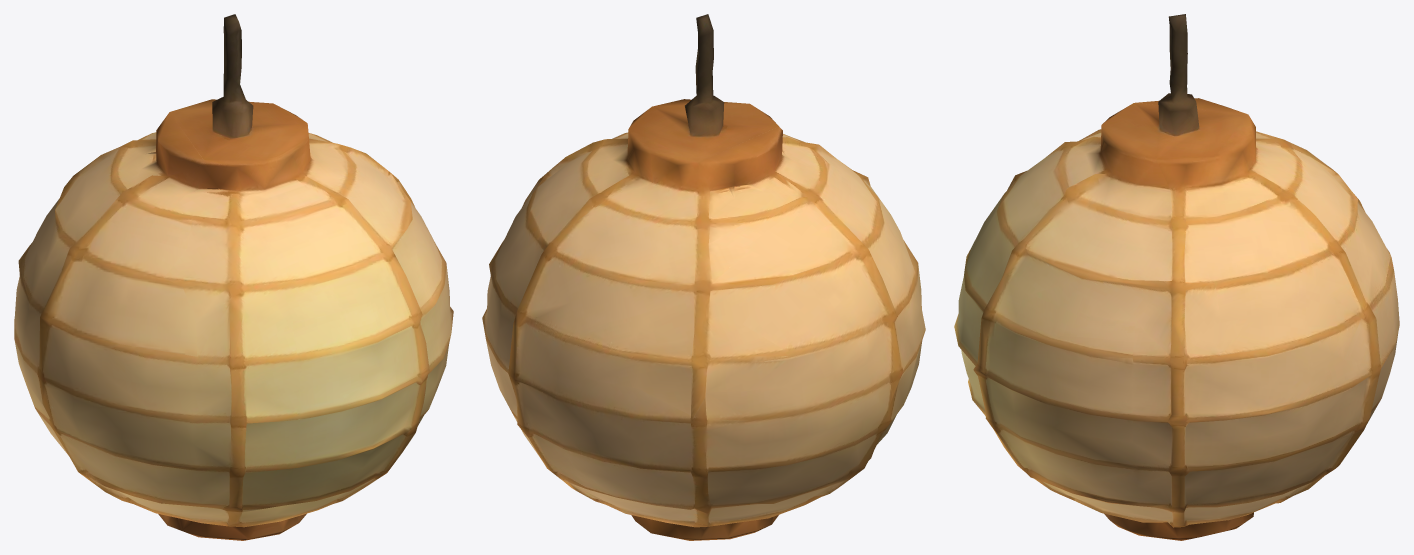
Rendered from lantern.glb.
3 views of the same model, side by side, from view 1: azimuth 30°, elevation 25°; view 2: azimuth 150°, elevation 25°; view 3: azimuth 270°, elevation 25° (orthographic).
Parts seen in each view (by area): view 1: tripo_node_e98ffcb7-e71c-481d-a531-781c29c1b2f7; view 2: tripo_node_e98ffcb7-e71c-481d-a531-781c29c1b2f7; view 3: tripo_node_e98ffcb7-e71c-481d-a531-781c29c1b2f7.
Part boxes in pixels (x1,y1,x2,y2): tripo_node_e98ffcb7-e71c-481d-a531-781c29c1b2f7: (14,14,453,540); tripo_node_e98ffcb7-e71c-481d-a531-781c29c1b2f7: (482,14,925,540); tripo_node_e98ffcb7-e71c-481d-a531-781c29c1b2f7: (954,14,1399,540).
Size of the model in its own units: 0.826 by 1 by 0.8168.
1 material, 1 textured.
